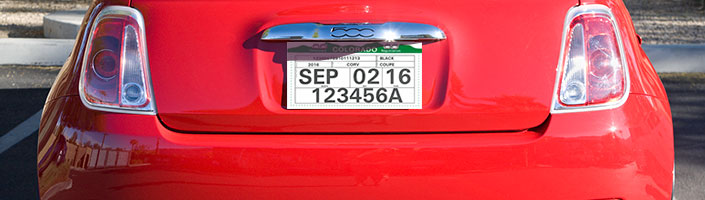license plate: (282, 40, 426, 111)
